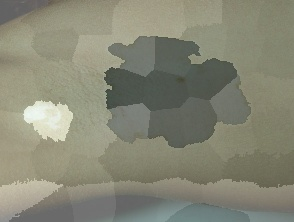vitiligo: (0, 1, 275, 200)
